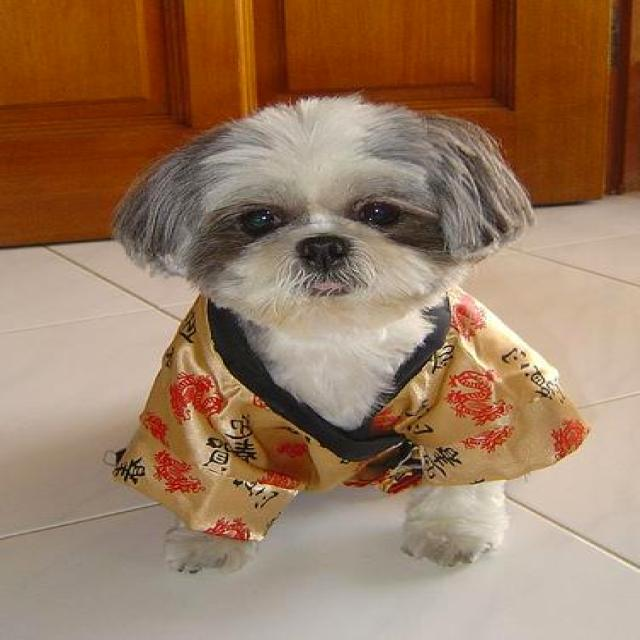shih_tzu: (107, 92, 543, 577)
